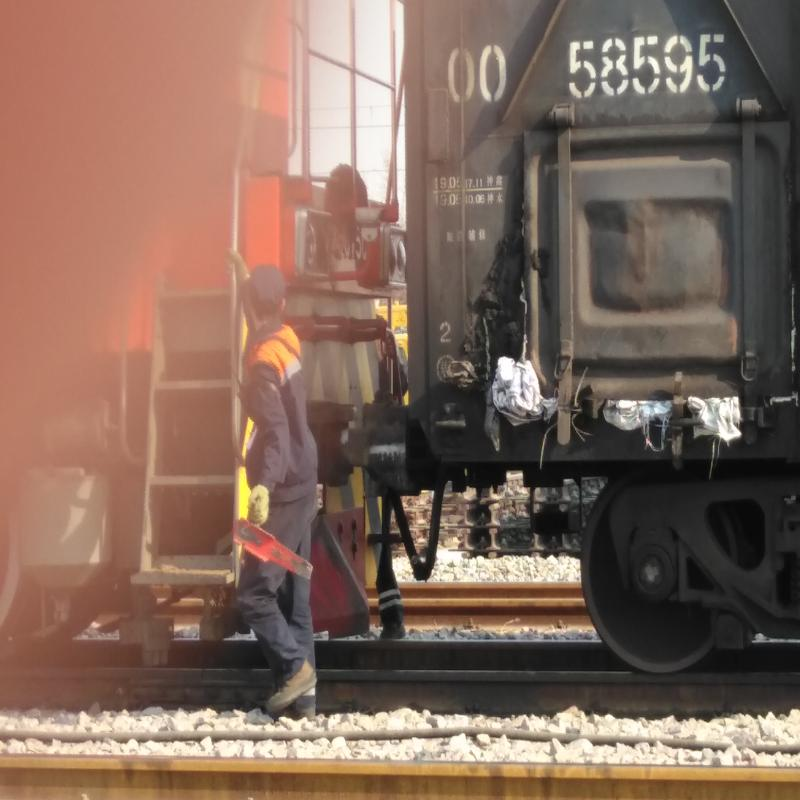train: (405, 1, 800, 656)
